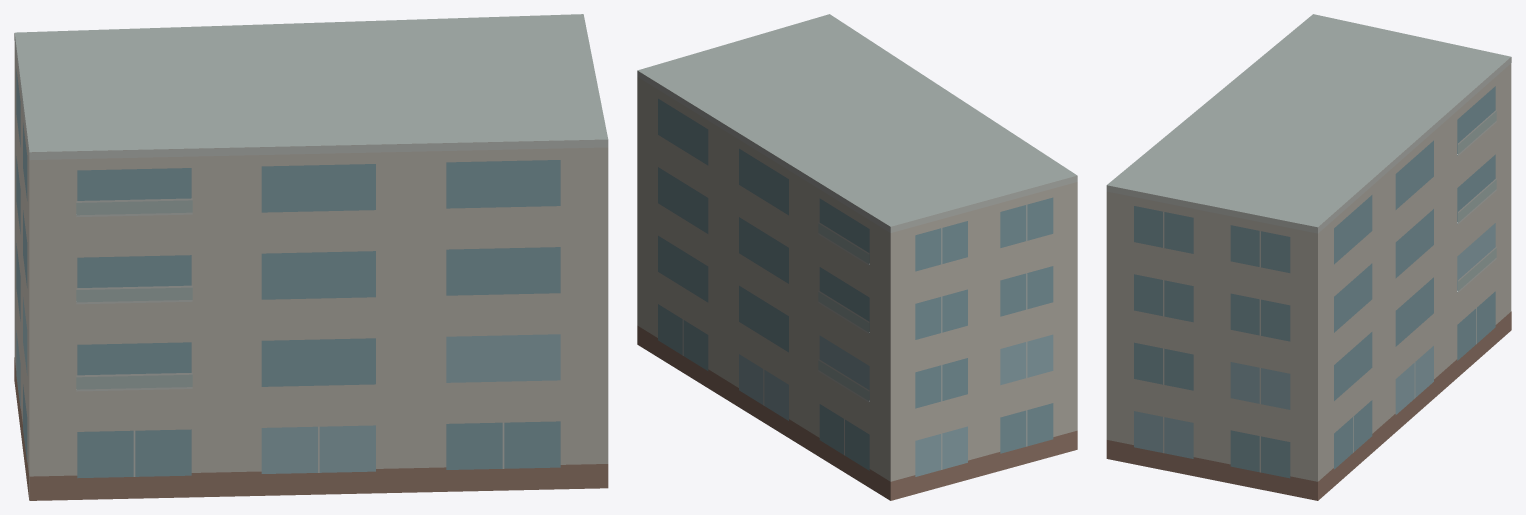
The model's file is survey-upis-32884368.glb.
3 renders of one model, left to right at view 1: azimuth 30°, elevation 25°; view 2: azimuth 150°, elevation 25°; view 3: azimuth 270°, elevation 25°, orthographic. The views are drawn at different scales.
Parts seen in each view (by area): view 1: survey-upis-32884368.tmp; view 2: survey-upis-32884368.tmp; view 3: survey-upis-32884368.tmp.
Boxes of the visible parts, x1,y1,x2,y2 form: survey-upis-32884368.tmp: [14, 14, 608, 500]; survey-upis-32884368.tmp: [637, 14, 1077, 500]; survey-upis-32884368.tmp: [1106, 14, 1511, 500].
Size of the model in its own units: 17.74 by 10.6 by 14.23.
